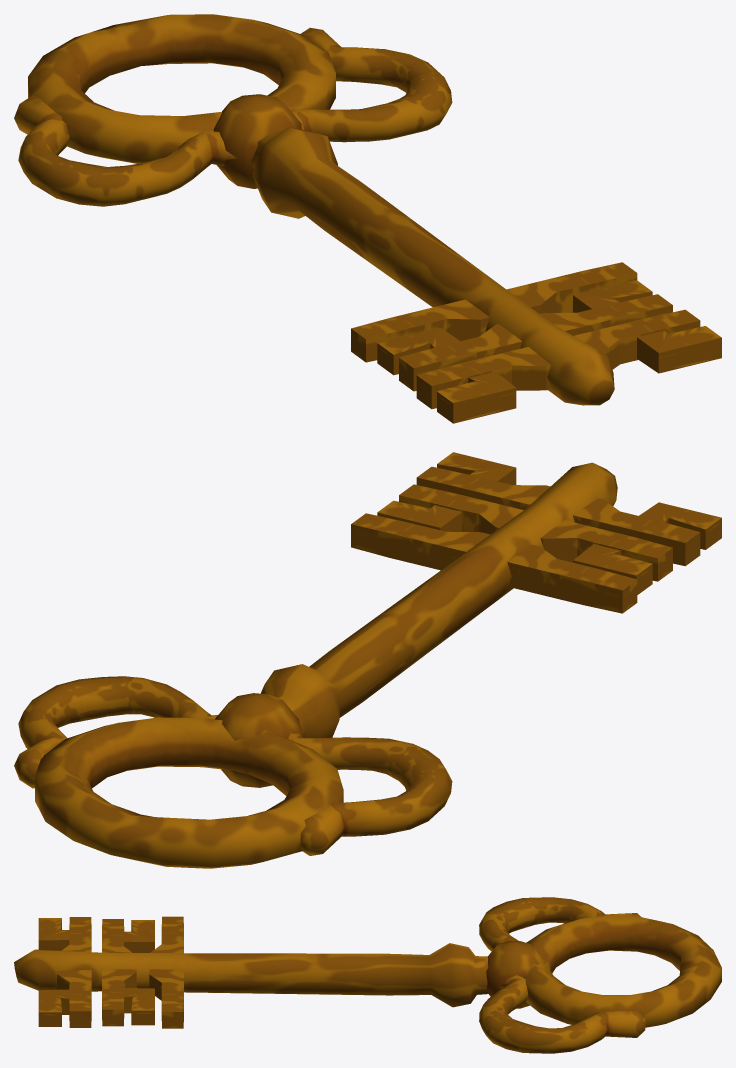
The model's file is key_gold.glb.
3 views of the same model, one above another, from view 1: azimuth 30°, elevation 25°; view 2: azimuth 150°, elevation 25°; view 3: azimuth 270°, elevation 25° (orthographic). The views are drawn at different scales.
Parts seen in each view (by area): view 1: Key_Gold; view 2: Key_Gold; view 3: Key_Gold.
Part boxes in pixels (x1=…): Key_Gold: x1=14, y1=14, x2=721, y2=423; Key_Gold: x1=14, y1=452, x2=721, y2=868; Key_Gold: x1=14, y1=897, x2=721, y2=1053.
Bounding box in the file's own units: 0.0581 × 0.0123 × 0.1223.
Materials: 1 (1 with a texture image).
